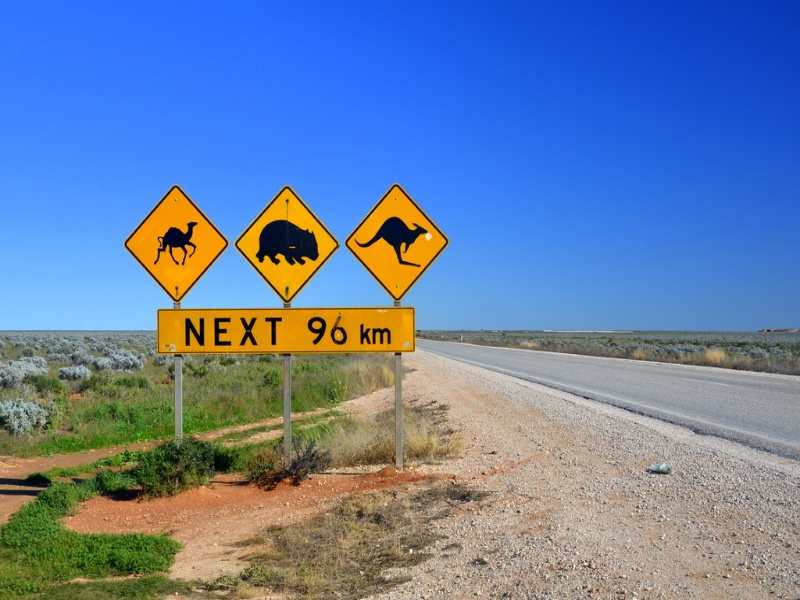animal_ahead: (232, 179, 342, 302), (120, 182, 231, 302), (342, 177, 450, 300)
